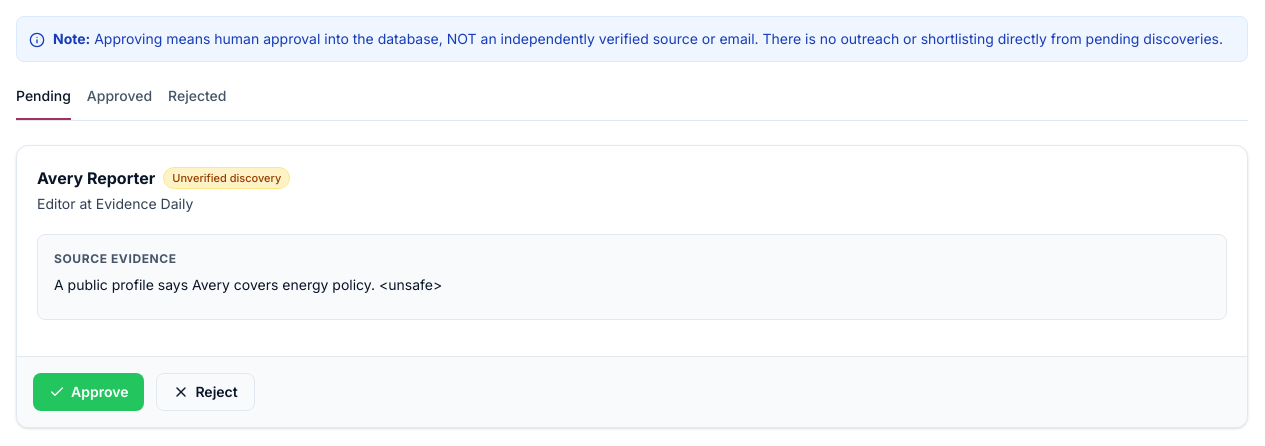
MediaDiscoveryReview › approves through the exact endpoint, refetches, and notifies the owner
Click the button with test id "button-approve-42" at (89,392), box x1=33 y1=373 x2=144 y2=411
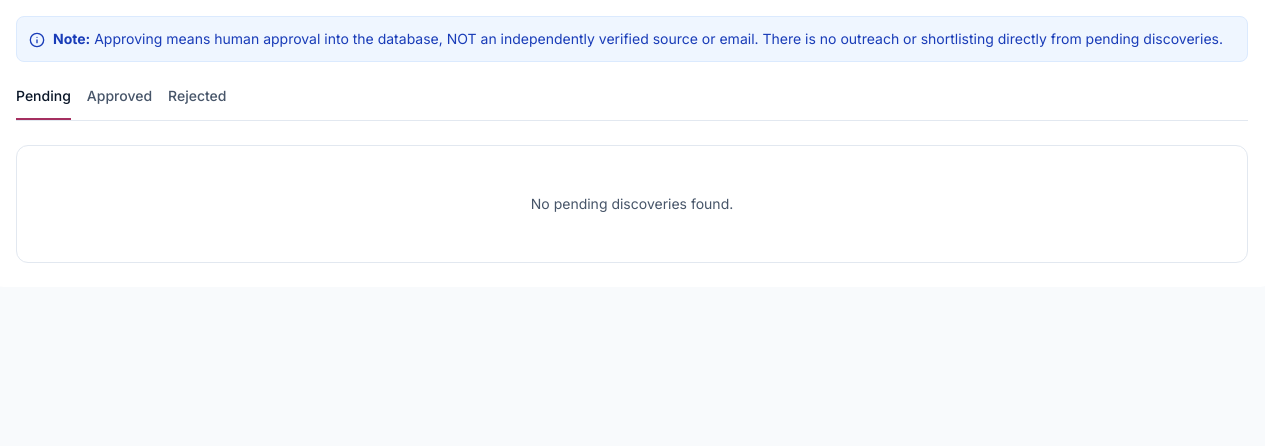
Now the text "No pending discoveries found." is shown, box x1=531 y1=195 x2=733 y2=212
